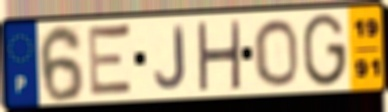6: (36, 21, 87, 104)
E: (87, 22, 136, 100)
G: (302, 11, 348, 89)
H: (194, 19, 242, 91)
J: (152, 23, 188, 91)
O: (251, 17, 301, 89)
